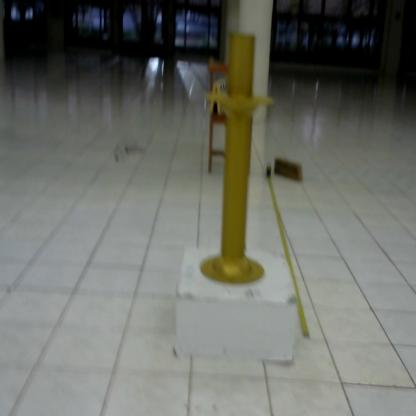pole: (199, 36, 276, 285)
